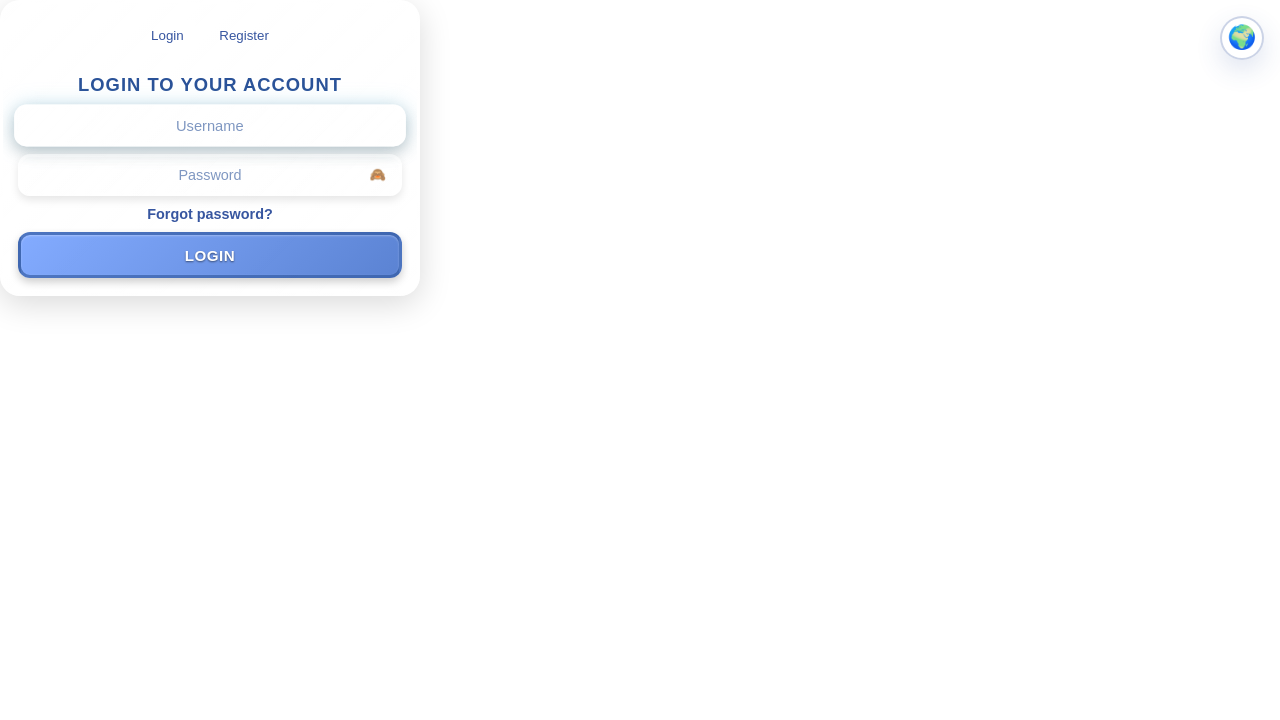
Scenario: AuthMenu › closes the language options when the backdrop is clicked
Click the button named "language".
click(1242, 38)  # box left=1220, top=16, right=1264, bottom=60
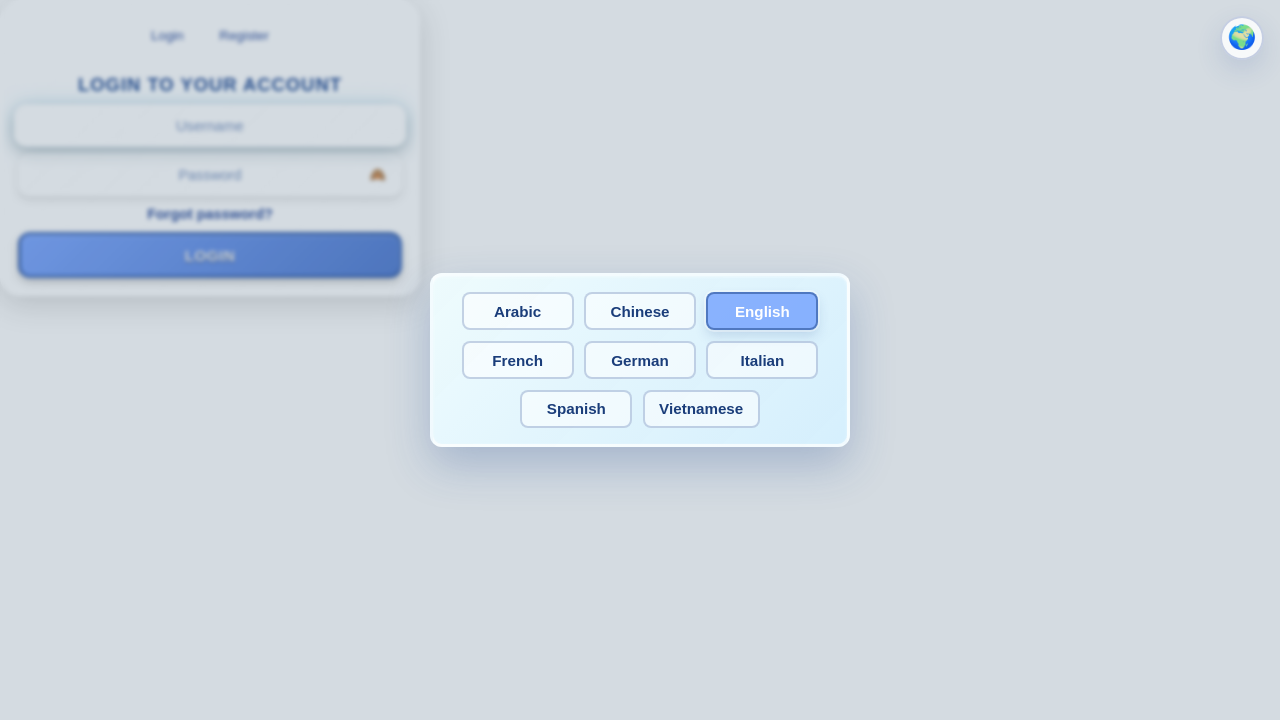
Expected: the button "French" is shown, left=462, top=341, right=574, bottom=379
Click the element with class "auth-language-options-overlay".
click(77, 360)  # box left=0, top=0, right=1279, bottom=719
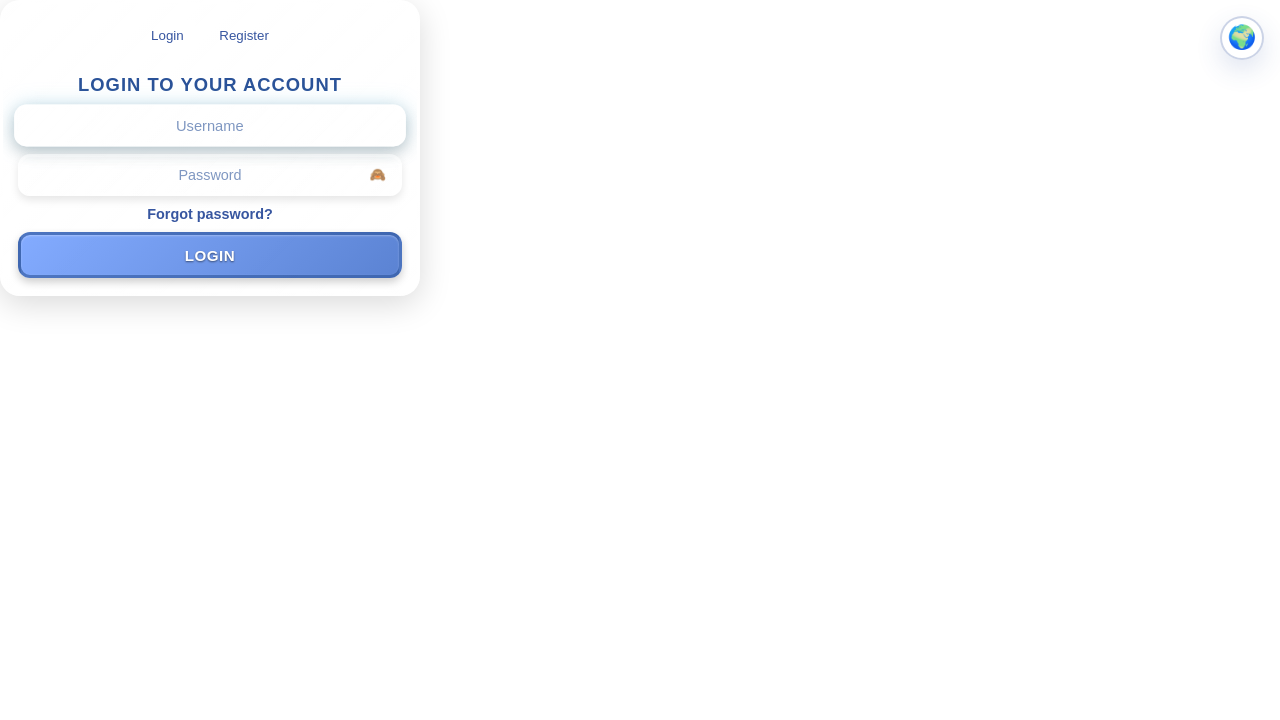
Expected: the button "French" is gone
